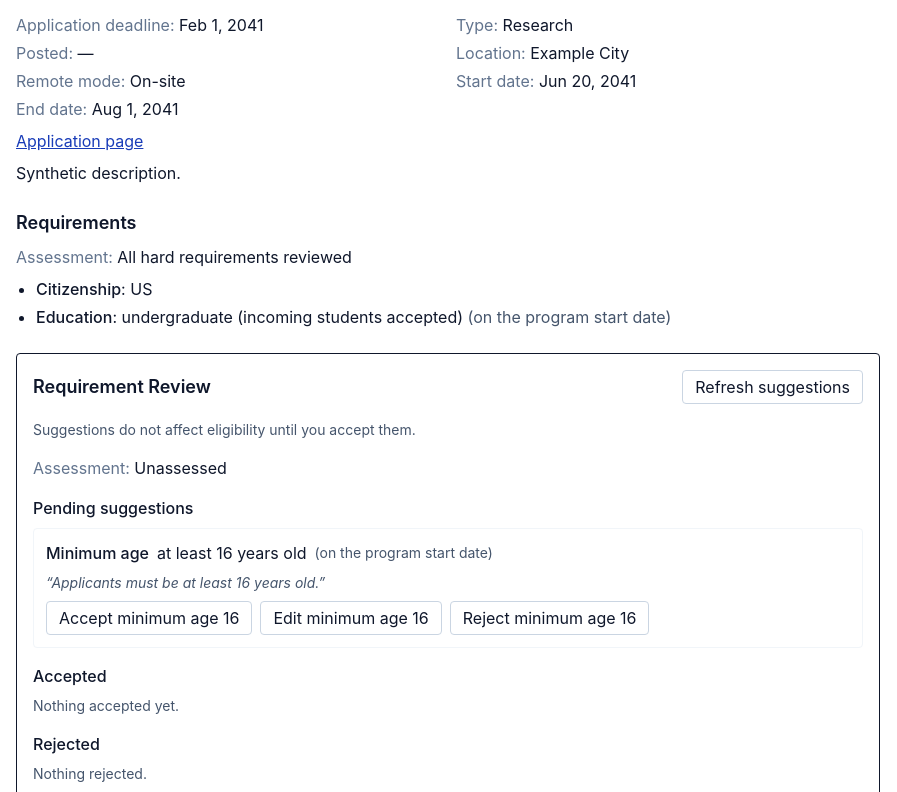
Test: requirement review panel › refreshes suggestions on request
(page scrolled)
Expected: the heading "Pending suggestions" is shown, [33,498,193,518]
Click the button "Refresh suggestions": (773, 387) [682,370,863,404]
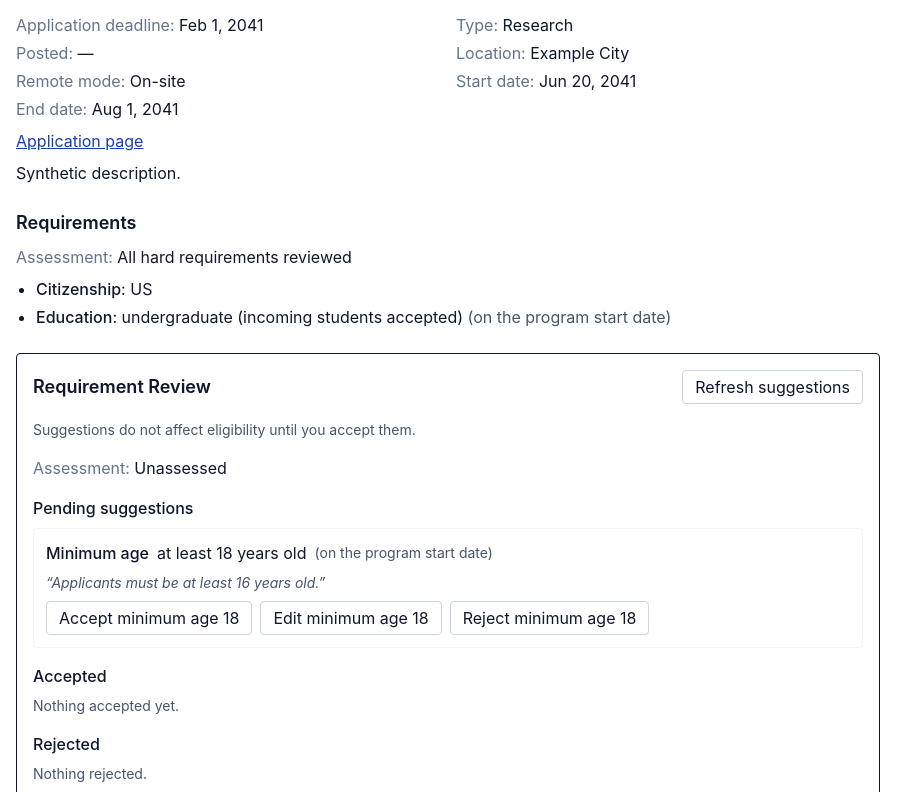
Expected: the text "at least 18 years old" is shown, [157,541,306,565]
